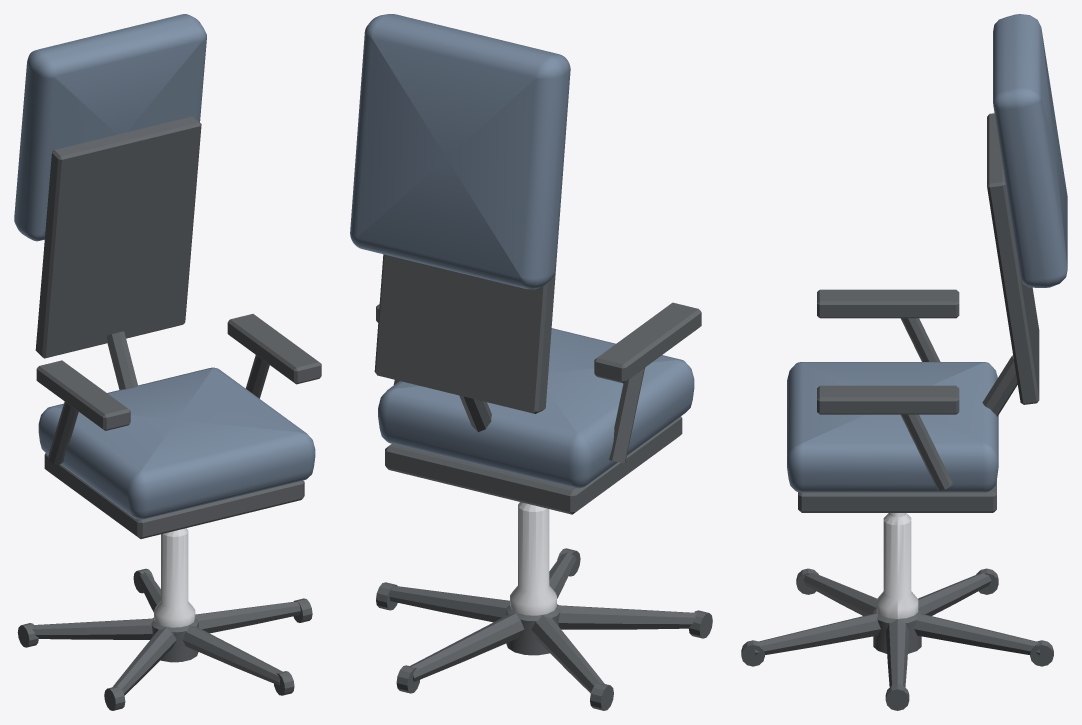
The model's file is nuclear-power-station-and-control-room-operator-chair-b68fce39__36917.glb.
The picture shows the model from 3 angles, left to right: view 1: azimuth 30°, elevation 25°; view 2: azimuth 150°, elevation 25°; view 3: azimuth 270°, elevation 25°; orthographic projection. The views are drawn at different scales.
Parts seen in each view (by area): view 1: seat/fabric, seat/dark, operator-chair; view 2: seat/fabric, seat/dark, operator-chair; view 3: seat/fabric, seat/dark, operator-chair.
Boxes of the visible parts, bbox=[...] form: seat/fabric: bbox=[14, 14, 315, 519]; seat/dark: bbox=[35, 116, 321, 538]; operator-chair: bbox=[17, 528, 312, 710]; seat/fabric: bbox=[350, 14, 694, 488]; seat/dark: bbox=[374, 254, 701, 514]; operator-chair: bbox=[376, 502, 712, 710]; seat/fabric: bbox=[787, 14, 1067, 492]; seat/dark: bbox=[798, 113, 1039, 512]; operator-chair: bbox=[741, 513, 1053, 710].
Size of the model in its own units: 0.607 by 1.38 by 0.6884.
